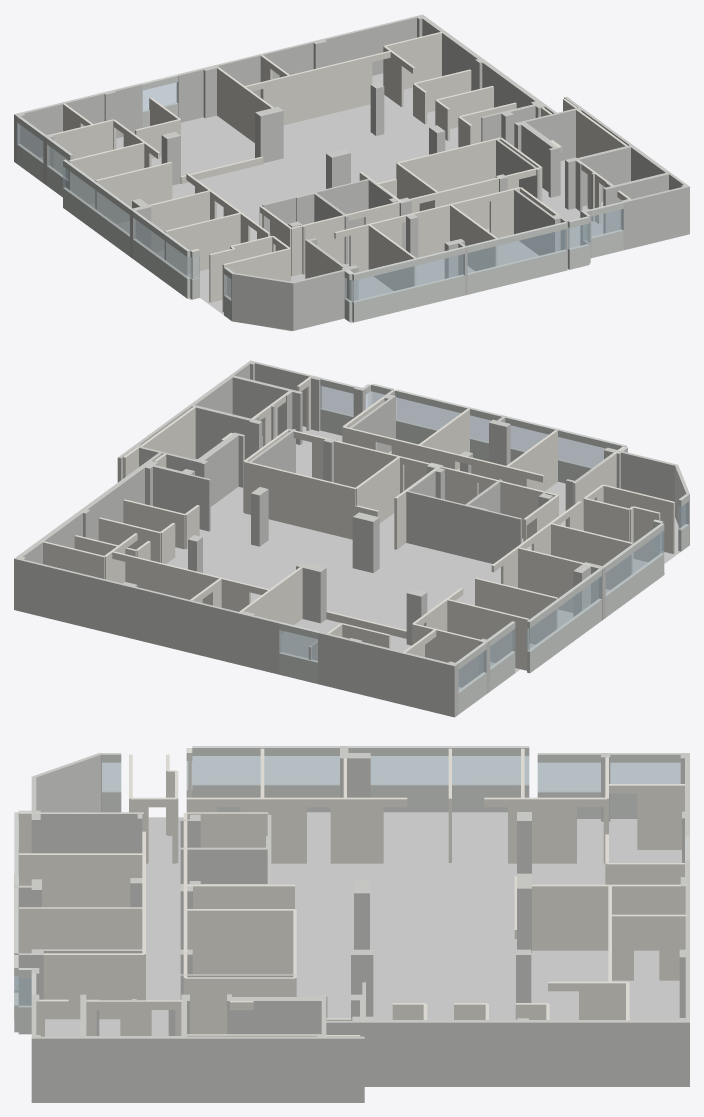
The model's file is 06-vector-walls.glb.
3 views of the same model, one above another, from view 1: azimuth 30°, elevation 25°; view 2: azimuth 150°, elevation 25°; view 3: azimuth 270°, elevation 25° (orthographic). The views are drawn at different scales.
Parts seen in each view (by area): view 1: Floor4_06-vector-walls_partition_Blocking, Floor4_06-vector-walls_concrete_Blocking, Floor4_06-vector-walls_Floor, Floor4_06-vector-walls_wall_Blocking, Floor4_06-vector-walls_glass_Blocking; view 2: Floor4_06-vector-walls_concrete_Blocking, Floor4_06-vector-walls_partition_Blocking, Floor4_06-vector-walls_Floor, Floor4_06-vector-walls_wall_Blocking, Floor4_06-vector-walls_glass_Blocking; view 3: Floor4_06-vector-walls_concrete_Blocking, Floor4_06-vector-walls_partition_Blocking, Floor4_06-vector-walls_Floor, Floor4_06-vector-walls_wall_Blocking, Floor4_06-vector-walls_glass_Blocking.
Boxes of the visible parts, <box> form: Floor4_06-vector-walls_partition_Blocking: <box>51,32,630,312</box>; Floor4_06-vector-walls_concrete_Blocking: <box>14,14,689,330</box>; Floor4_06-vector-walls_Floor: <box>39,73,603,331</box>; Floor4_06-vector-walls_wall_Blocking: <box>17,74,623,322</box>; Floor4_06-vector-walls_glass_Blocking: <box>17,82,623,302</box>; Floor4_06-vector-walls_concrete_Blocking: <box>14,360,689,717</box>; Floor4_06-vector-walls_partition_Blocking: <box>41,377,674,687</box>; Floor4_06-vector-walls_Floor: <box>166,426,680,689</box>; Floor4_06-vector-walls_wall_Blocking: <box>279,378,688,714</box>; Floor4_06-vector-walls_glass_Blocking: <box>279,386,688,692</box>; Floor4_06-vector-walls_concrete_Blocking: <box>14,746,689,1102</box>; Floor4_06-vector-walls_partition_Blocking: <box>19,748,687,1036</box>; Floor4_06-vector-walls_Floor: <box>14,812,681,1036</box>; Floor4_06-vector-walls_wall_Blocking: <box>14,746,689,1034</box>; Floor4_06-vector-walls_glass_Blocking: <box>14,756,680,1006</box>.
Size of the model in its own units: 23.41 by 2.4 by 22.85.
